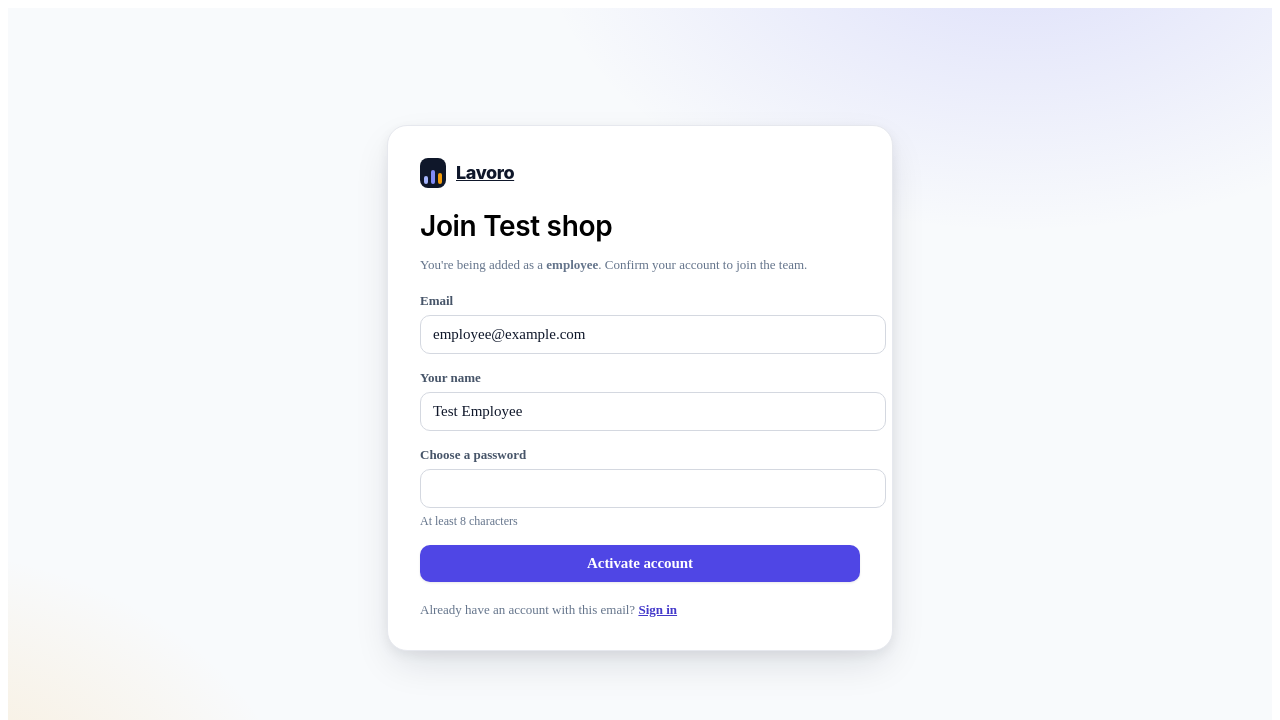
it: employee invitation onboarding › waits for email confirmation without trying to sign in or accept anonymously
Expected: the heading "Join Test shop" is shown, [420, 209, 612, 243]
Type "StrongPassword123!" into the password field labelled "Choose a password" at (653, 489), box [420, 469, 886, 508]
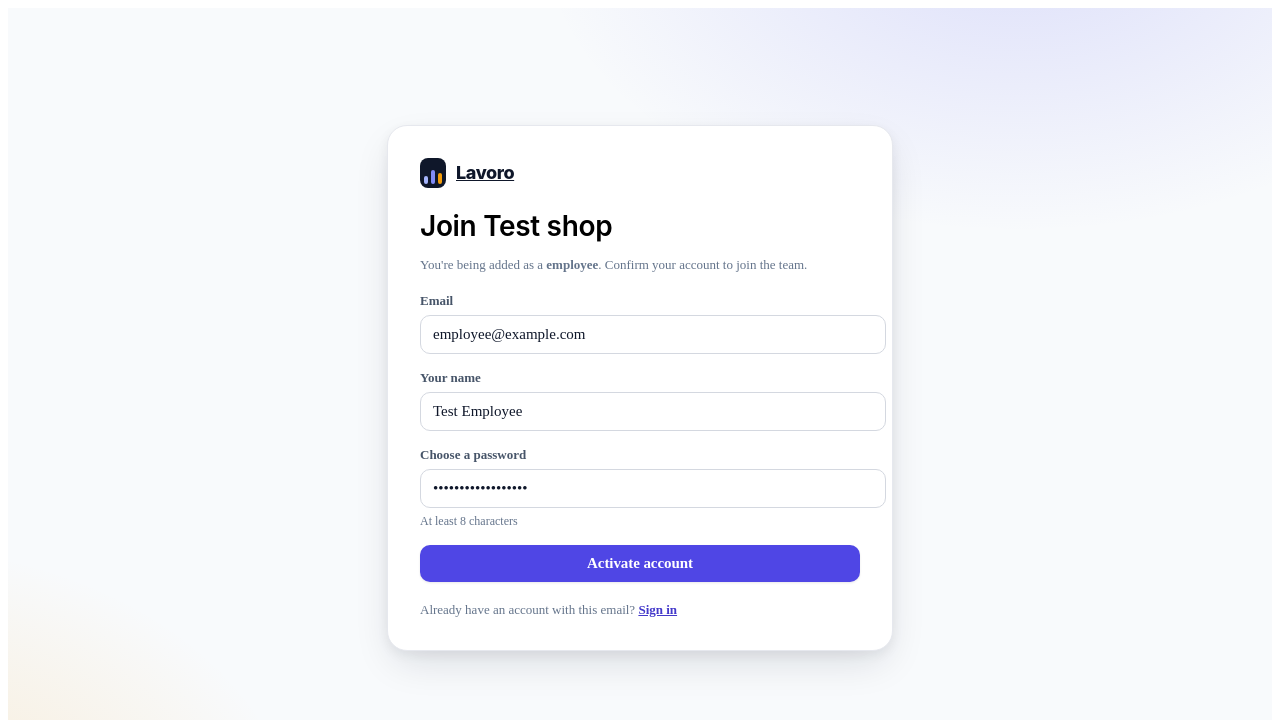
Click the button "Activate account" at (640, 564), box [420, 545, 860, 582]
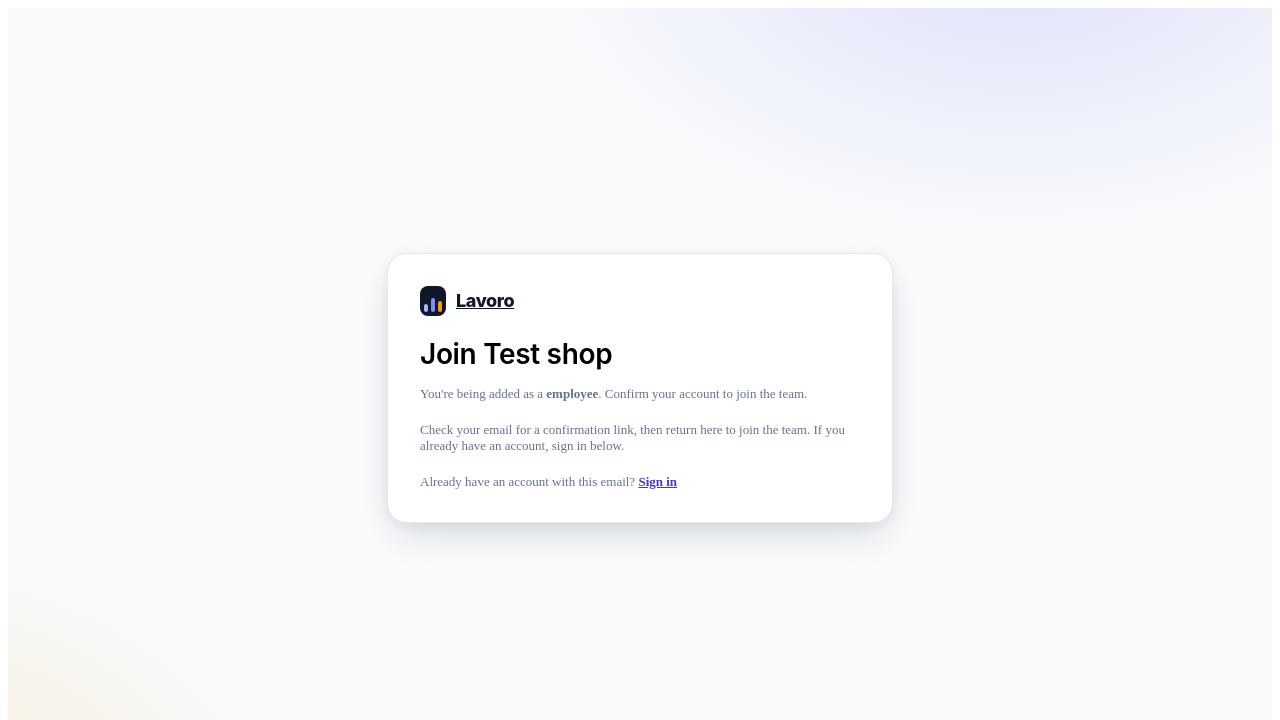
Now the message is shown, box [420, 422, 860, 454]
Now the password field is gone
